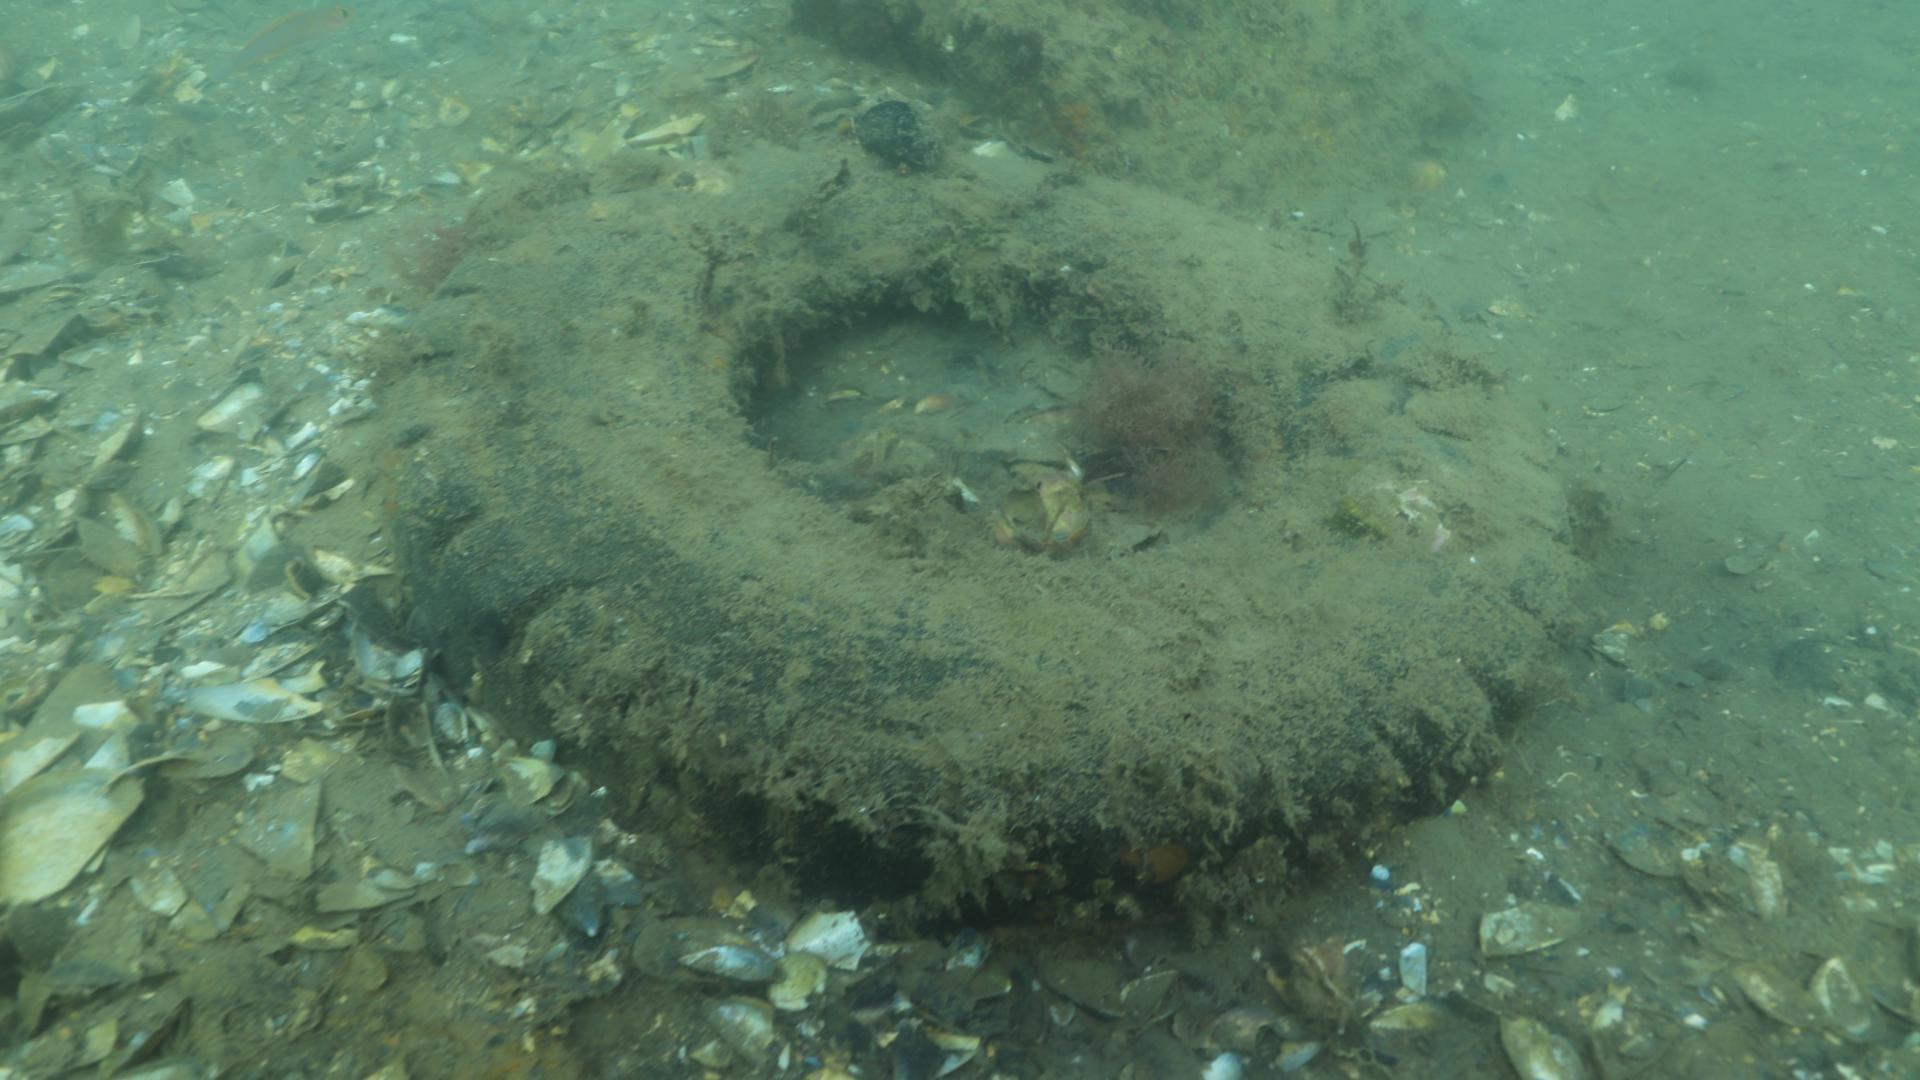tire: (382, 142, 1573, 938)
